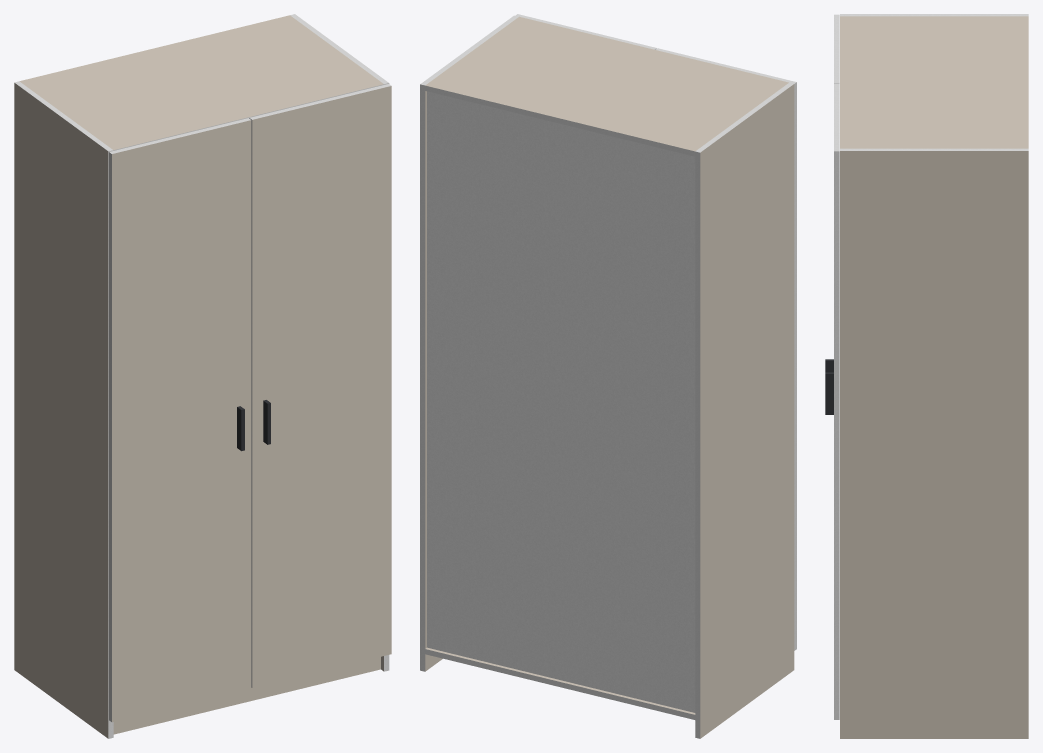
The model's file is CAL-WRD-single.glb.
3 views of the same model, side by side, from view 1: azimuth 30°, elevation 25°; view 2: azimuth 150°, elevation 25°; view 3: azimuth 270°, elevation 25° (orthographic).
Visible parts, largest first — view 1: door-r:pbr, door-l:pbr, side-l:pbr, top:pbr, plinth:pbr, door-l:sheet:eyJtIjoibWRmIiwic2lkZSI6ImVkZ2UtbG9uZyIsInNlZWQ, door-r:sheet:eyJtIjoibWRmIiwic2lkZSI6ImVkZ2UtbG9uZyIsInNlZWQ, pull, side-l:sheet:eyJtIjoibWRmIiwic2lkZSI6ImVkZ2UtbG9uZyIsInNlZWQ; view 2: back:sheet:eyJtIjoibWRmIiwic2lkZSI6ImZhY2UiLCJzZWVkIjoxLCJ0a, side-l:pbr, top:pbr, side-l:sheet:eyJtIjoibWRmIiwic2lkZSI6ImVkZ2UtbG9uZyIsInNlZWQ, side-r:sheet:eyJtIjoibWRmIiwic2lkZSI6ImVkZ2UtbG9uZyIsInNlZWQ, door-l:sheet:eyJtIjoibWRmIiwic2lkZSI6ImVkZ2UtbG9uZyIsInNlZWQ, bottom:sheet:eyJtIjoibWRmIiwic2lkZSI6ImVkZ2UtbG9uZyIsInNlZWQ, top:sheet:eyJtIjoibWRmIiwic2lkZSI6ImVkZ2UtbG9uZyIsInNlZWQiOj, side-r:pbr, bottom:pbr; view 3: side-r:pbr, top:pbr, door-r:sheet:eyJtIjoibWRmIiwic2lkZSI6ImVkZ2UtbG9uZyIsInNlZWQ, side-l:sheet:eyJtIjoibWRmIiwic2lkZSI6ImVkZ2UtZW5kIiwic2VlZCI, side-r:sheet:eyJtIjoibWRmIiwic2lkZSI6ImVkZ2UtZW5kIiwic2VlZCI, pull, door-l:sheet:eyJtIjoibWRmIiwic2lkZSI6ImVkZ2UtZW5kIiwic2VlZCI, door-r:sheet:eyJtIjoibWRmIiwic2lkZSI6ImVkZ2UtZW5kIiwic2VlZCI.
Boxes of the visible parts, x1,y1,x2,y2 form: door-r:pbr: (252,86,391,687); door-l:pbr: (112,120,251,722); side-l:pbr: (14,83,108,738); top:pbr: (19,15,383,150); plinth:pbr: (113,657,380,734); door-l:sheet:eyJtIjoibWRmIiwic2lkZSI6ImVkZ2UtbG9uZyIsInNlZWQ: (109,152,111,721); door-r:sheet:eyJtIjoibWRmIiwic2lkZSI6ImVkZ2UtbG9uZyIsInNlZWQ: (249,118,252,687); pull: (237,400,270,451); side-l:sheet:eyJtIjoibWRmIiwic2lkZSI6ImVkZ2UtbG9uZyIsInNlZWQ: (108,150,113,738); back:sheet:eyJtIjoibWRmIiwic2lkZSI6ImZhY2UiLCJzZWVkIjoxLCJ0a: (427,91,695,712); side-l:pbr: (700,84,794,738); top:pbr: (425,16,788,151); side-l:sheet:eyJtIjoibWRmIiwic2lkZSI6ImVkZ2UtbG9uZyIsInNlZWQ: (695,151,700,738); side-r:sheet:eyJtIjoibWRmIiwic2lkZSI6ImVkZ2UtbG9uZyIsInNlZWQ: (420,84,425,671); door-l:sheet:eyJtIjoibWRmIiwic2lkZSI6ImVkZ2UtbG9uZyIsInNlZWQ: (794,82,796,650); bottom:sheet:eyJtIjoibWRmIiwic2lkZSI6ImVkZ2UtbG9uZyIsInNlZWQ: (425,649,695,719); top:sheet:eyJtIjoibWRmIiwic2lkZSI6ImVkZ2UtbG9uZyIsInNlZWQiOj: (425,85,695,156); side-r:pbr: (425,91,442,671); bottom:pbr: (425,647,695,714); side-r:pbr: (840,151,1028,738); top:pbr: (840,16,1028,148); door-r:sheet:eyJtIjoibWRmIiwic2lkZSI6ImVkZ2UtbG9uZyIsInNlZWQ: (834,151,839,719); side-l:sheet:eyJtIjoibWRmIiwic2lkZSI6ImVkZ2UtZW5kIiwic2VlZCI: (840,14,1028,16); side-r:sheet:eyJtIjoibWRmIiwic2lkZSI6ImVkZ2UtZW5kIiwic2VlZCI: (840,148,1028,150); pull: (825,359,833,414); door-l:sheet:eyJtIjoibWRmIiwic2lkZSI6ImVkZ2UtZW5kIiwic2VlZCI: (834,14,839,82); door-r:sheet:eyJtIjoibWRmIiwic2lkZSI6ImVkZ2UtZW5kIiwic2VlZCI: (834,83,839,151).
Size of the model in its own units: 1 by 2 by 0.6271.
34 materials, 23 textured.
